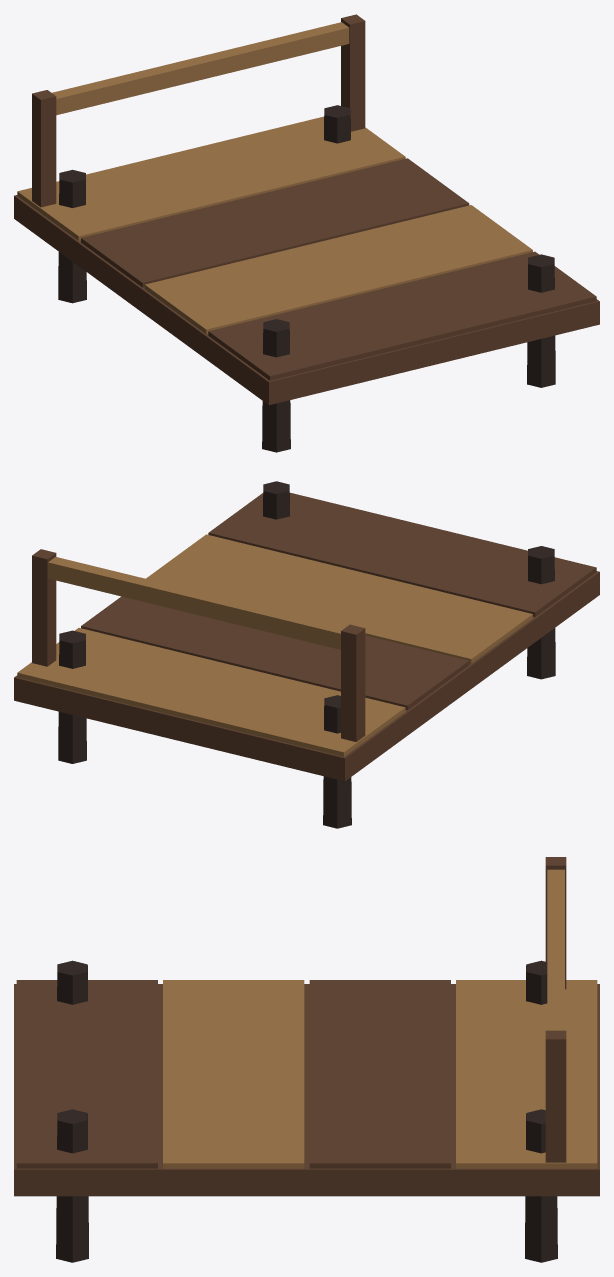
File: PirateCove_DockEnd_Simple.glb
The picture shows the model from 3 angles, top to bottom: view 1: azimuth 30°, elevation 25°; view 2: azimuth 150°, elevation 25°; view 3: azimuth 270°, elevation 25°; orthographic projection. The views are drawn at different scales.
Parts seen in each view (by area): view 1: PirateCove_DockEnd_Simple; view 2: PirateCove_DockEnd_Simple; view 3: PirateCove_DockEnd_Simple.
Part boxes in pixels (box(x1,y1,x2,y2)): PirateCove_DockEnd_Simple: box(14, 14, 599, 452); PirateCove_DockEnd_Simple: box(14, 481, 599, 828); PirateCove_DockEnd_Simple: box(14, 857, 599, 1262).
Bounding box in the file's own units: 3 × 1.75 × 4.
